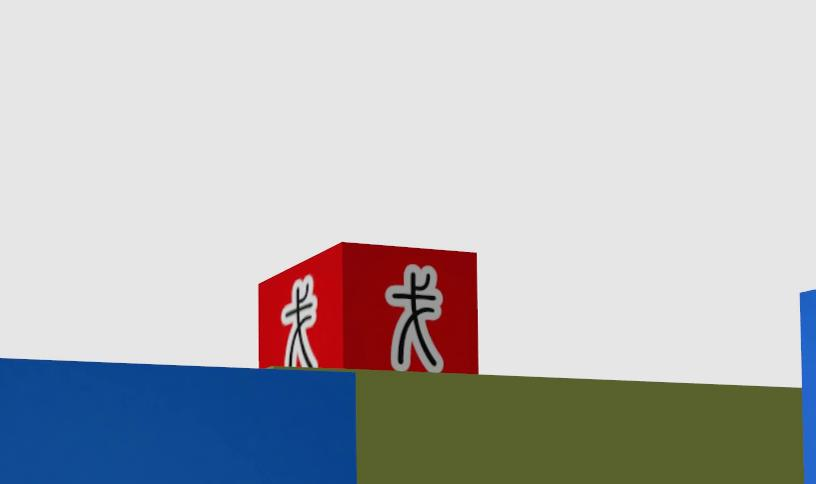KFS_FAKE: (259, 243, 478, 371), (386, 265, 442, 371), (280, 275, 317, 367)
KFS_REAL: (0, 359, 356, 484)
